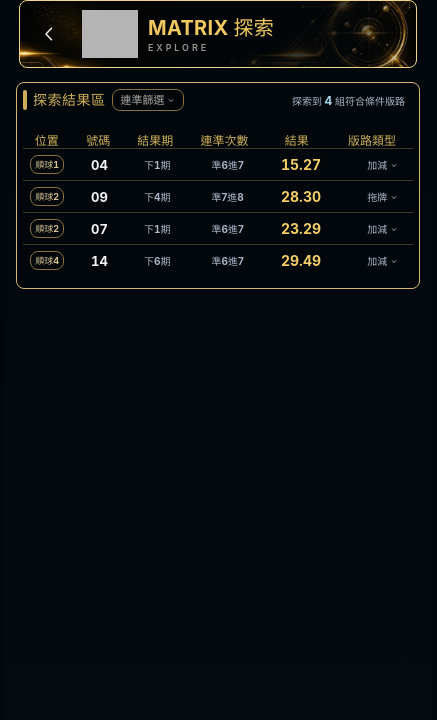
Scenario: production member shell › uses the approved one-line summary format
Click the button with aria-label "展開版路 result-04": (377, 164) [336, 157, 419, 172]
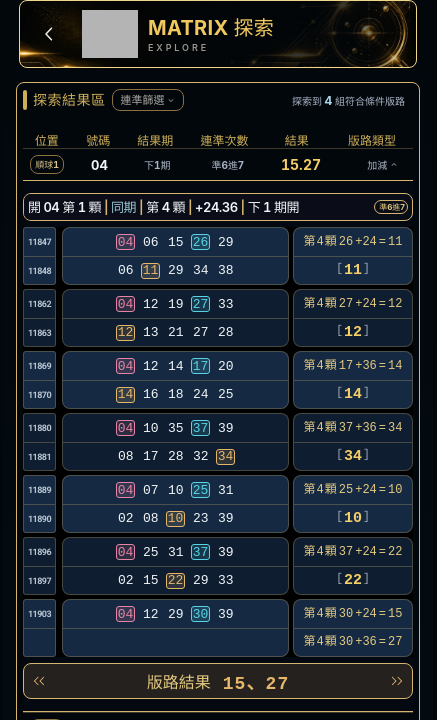
Expected: the element with class "explore-validation-summary" reads "開 04 第 1 顆 | 同期 | 第 4 顆 | +24.36 | 下 1 期開", [24, 194, 372, 220]
